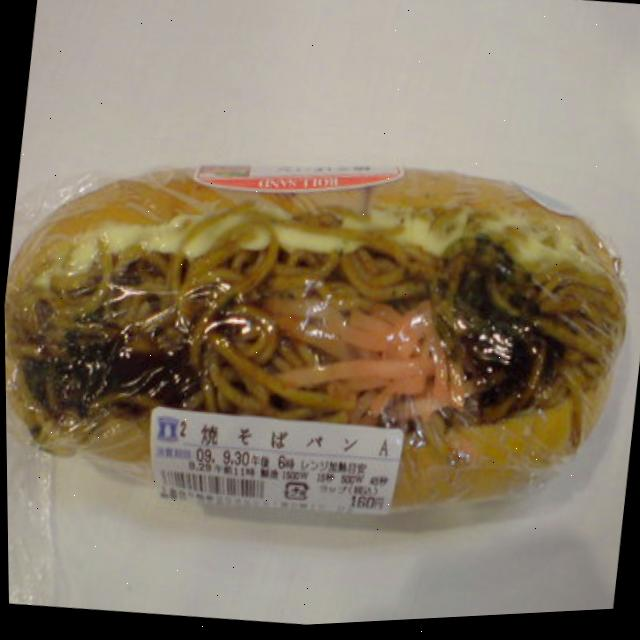三明治: (1, 94, 640, 583)
